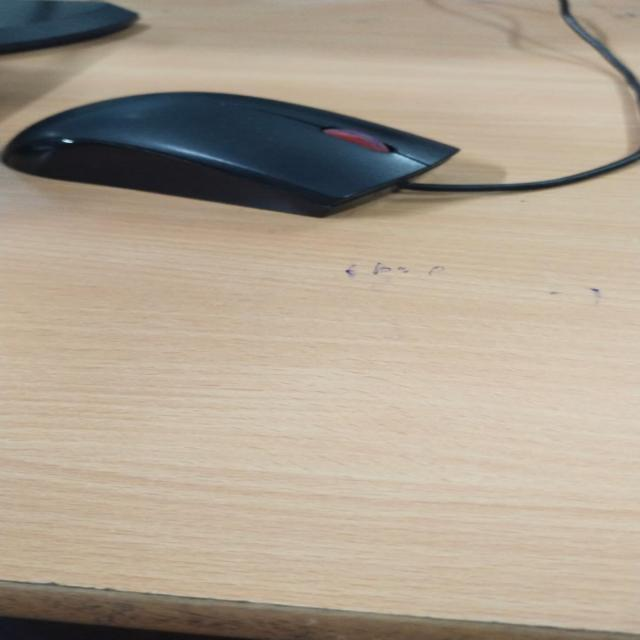Mouse: (0, 34, 358, 255), (60, 39, 328, 242)
